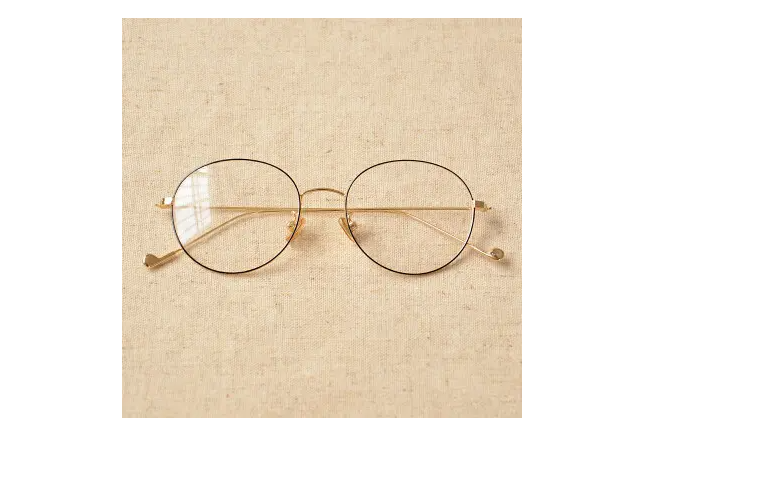glass: (141, 147, 515, 294)
